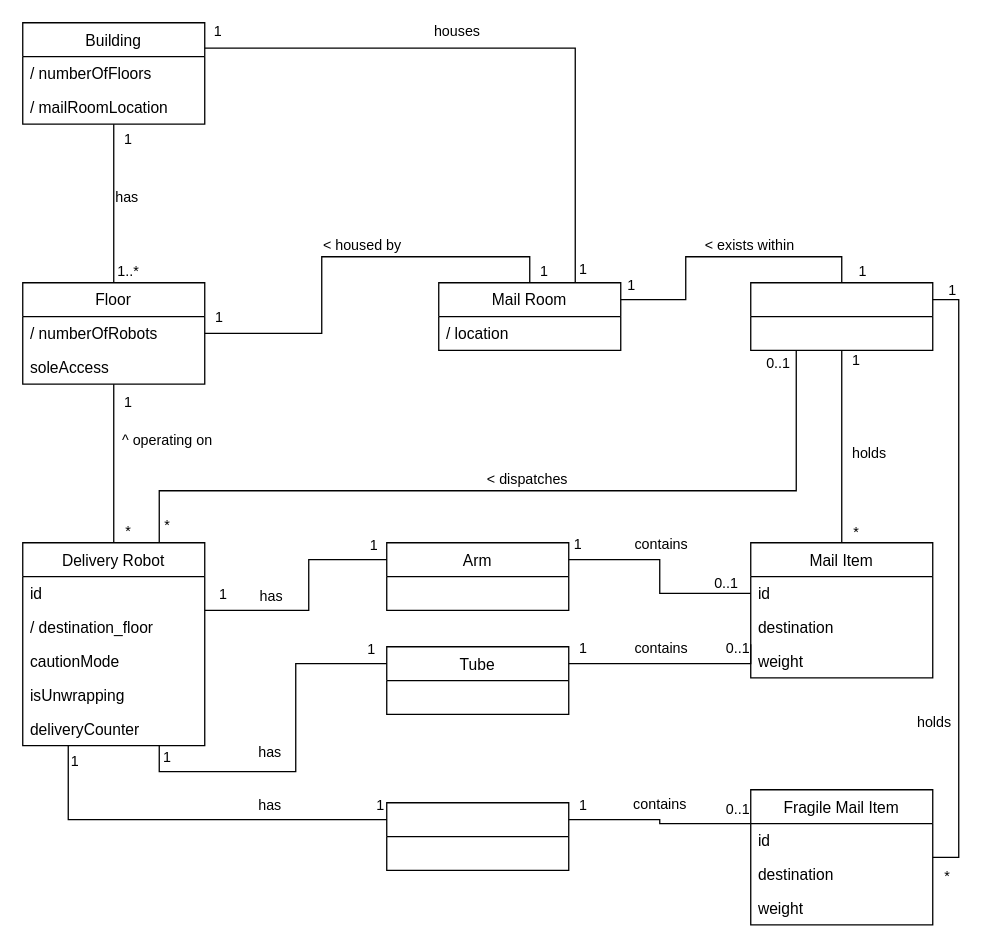
This 983x952 diagram has some shape labels left out. Each missing label, with the centre of its shape:
"Mail Pool" belongs at point (841, 315).
"Special Arms" belongs at point (477, 835).
